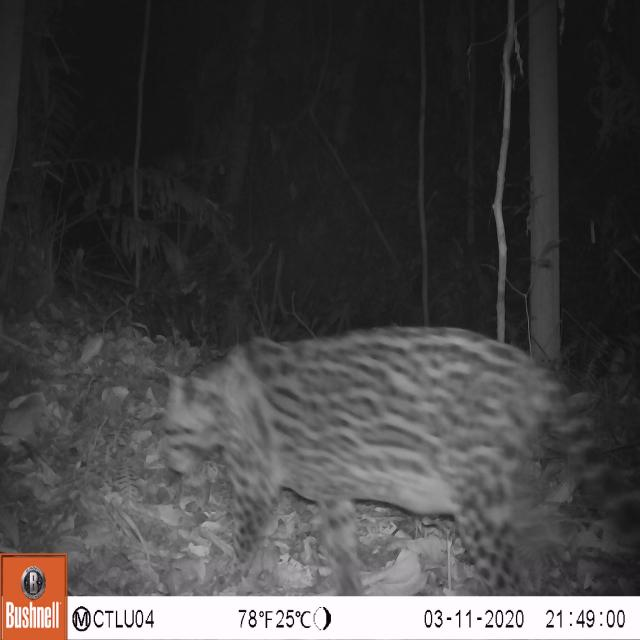Ocelote: (150, 315, 604, 595)
